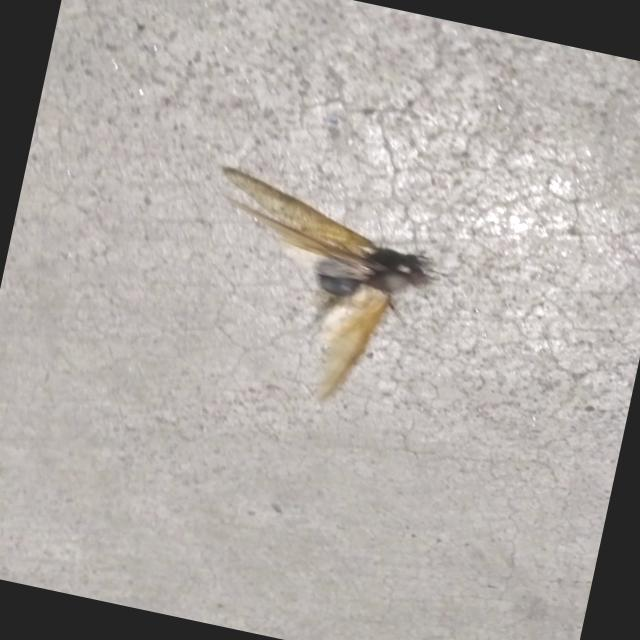Dead-Female-Alate: (181, 192, 448, 420)
